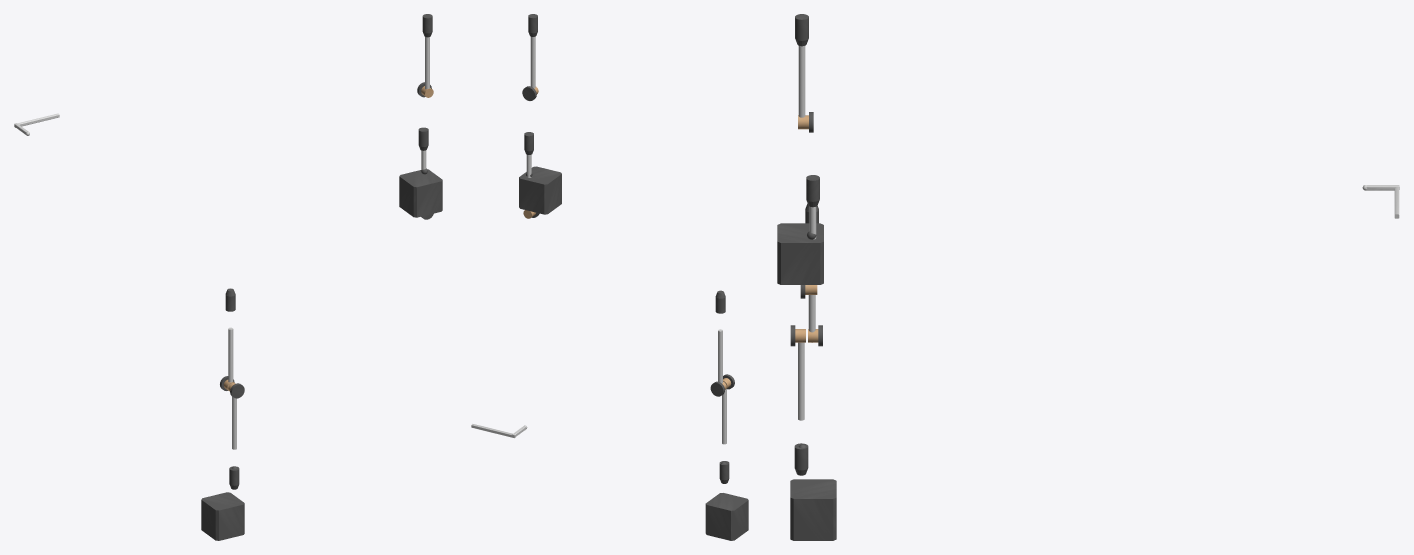
File: 平衡支架小锤子.FBX
3 renders of one model, left to right at view 1: azimuth 30°, elevation 25°; view 2: azimuth 150°, elevation 25°; view 3: azimuth 270°, elevation 25°, orthographic. The views are drawn at different scales.
Visible parts, largest first — view 1: Box040, Sphere003, Cylinder076; view 2: Box040, Sphere003, Cylinder076, Cylinder074; view 3: Box040, Sphere003, Cylinder076, Cylinder074.
Part boxes in pixels (x1,y1,x2,y2): Box040: (201, 492, 244, 540); Sphere003: (399, 168, 442, 217); Cylinder076: (417, 14, 433, 97); Box040: (705, 493, 748, 540); Sphere003: (519, 166, 561, 214); Cylinder076: (522, 14, 538, 100); Cylinder074: (523, 132, 539, 218); Box040: (790, 479, 836, 540); Sphere003: (777, 223, 823, 284); Cylinder076: (795, 14, 813, 132); Cylinder074: (800, 175, 819, 298).
Size of the model in its own units: 30.6 by 61.74 by 53.59.
Materials: 21 (21 with a texture image).
